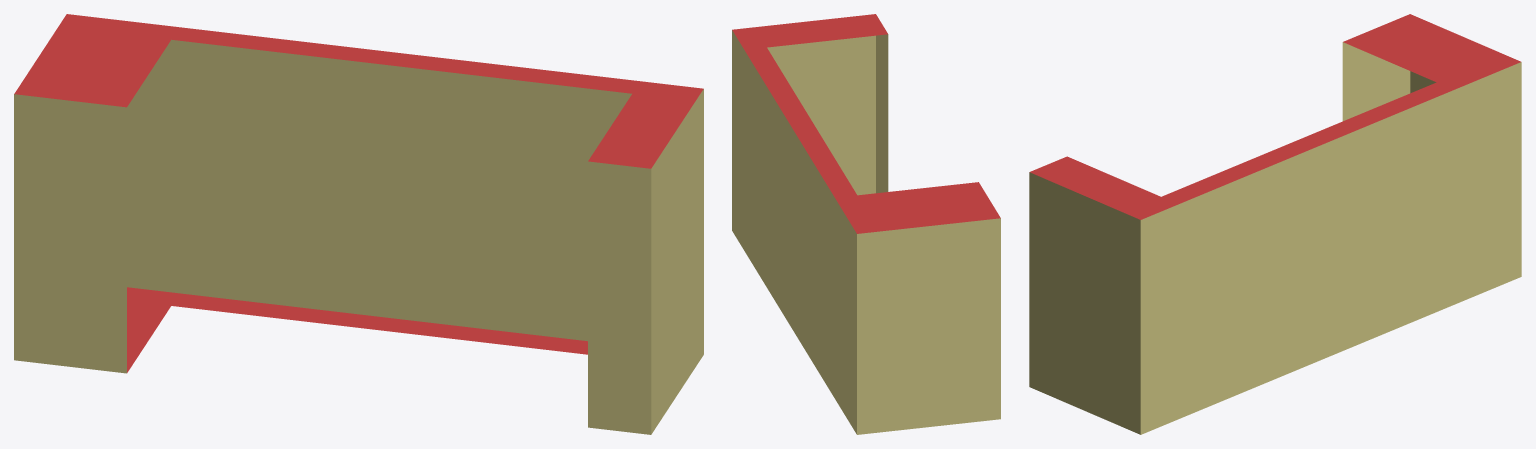
3 views of the same model, side by side, from view 1: azimuth 30°, elevation 25°; view 2: azimuth 150°, elevation 25°; view 3: azimuth 270°, elevation 25° (orthographic). The views are drawn at different scales.
Parts seen in each view (by area): view 1: group_4, group_3, group_5; view 2: group_4, group_3; view 3: group_4, group_3.
Boxes of the visible parts, <box> form: group_4: <box>14,39,703,434</box>; group_3: <box>14,14,703,168</box>; group_5: <box>127,287,587,372</box>; group_4: <box>732,30,1000,434</box>; group_3: <box>732,14,1000,233</box>; group_4: <box>1029,42,1521,434</box>; group_3: <box>1029,14,1520,219</box>.
Bounding box in the file's own units: 18.83 × 19.01 × 9.16.
